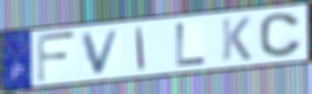C: (257, 12, 305, 59)
F: (35, 30, 79, 84)
I: (135, 25, 147, 71)
K: (220, 15, 253, 63)
L: (174, 21, 209, 68)
V: (80, 27, 123, 76)
